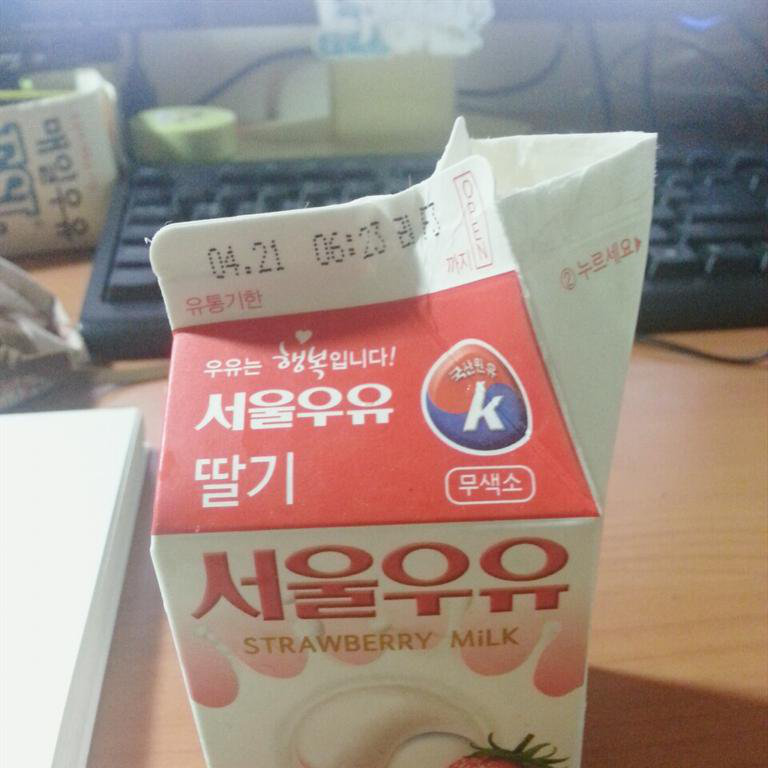milk: (149, 116, 659, 768), (2, 83, 123, 255)
